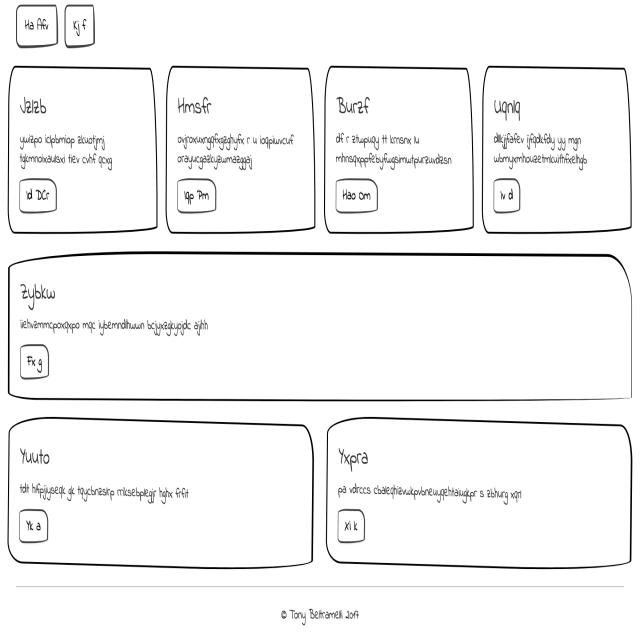Button: (332, 175, 388, 220), (13, 170, 59, 217), (18, 342, 58, 386), (173, 180, 222, 213), (490, 172, 525, 218), (15, 504, 53, 544), (333, 507, 371, 546)
Card: (3, 249, 633, 403), (324, 415, 631, 556), (6, 424, 312, 560), (3, 65, 158, 236), (484, 59, 632, 237), (167, 59, 315, 234), (325, 61, 475, 232)
Footer: (3, 574, 640, 640)
Heading 6: (333, 438, 374, 476), (19, 273, 60, 310), (174, 86, 216, 122), (16, 87, 56, 124), (18, 435, 54, 476), (334, 88, 376, 122), (490, 85, 523, 126)
Navigation Bar: (13, 2, 104, 48)
Paragraph: (15, 308, 208, 346), (177, 129, 298, 172), (334, 129, 453, 171), (19, 479, 192, 505), (335, 483, 528, 505), (491, 132, 593, 171), (17, 133, 117, 172)
